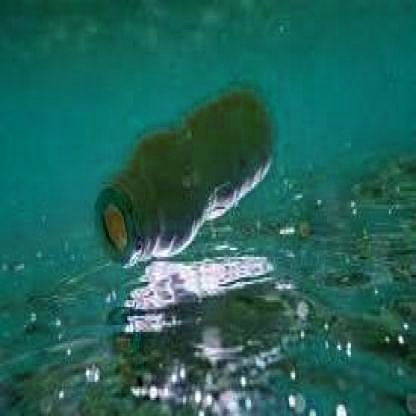pbottle: (86, 77, 276, 273)
